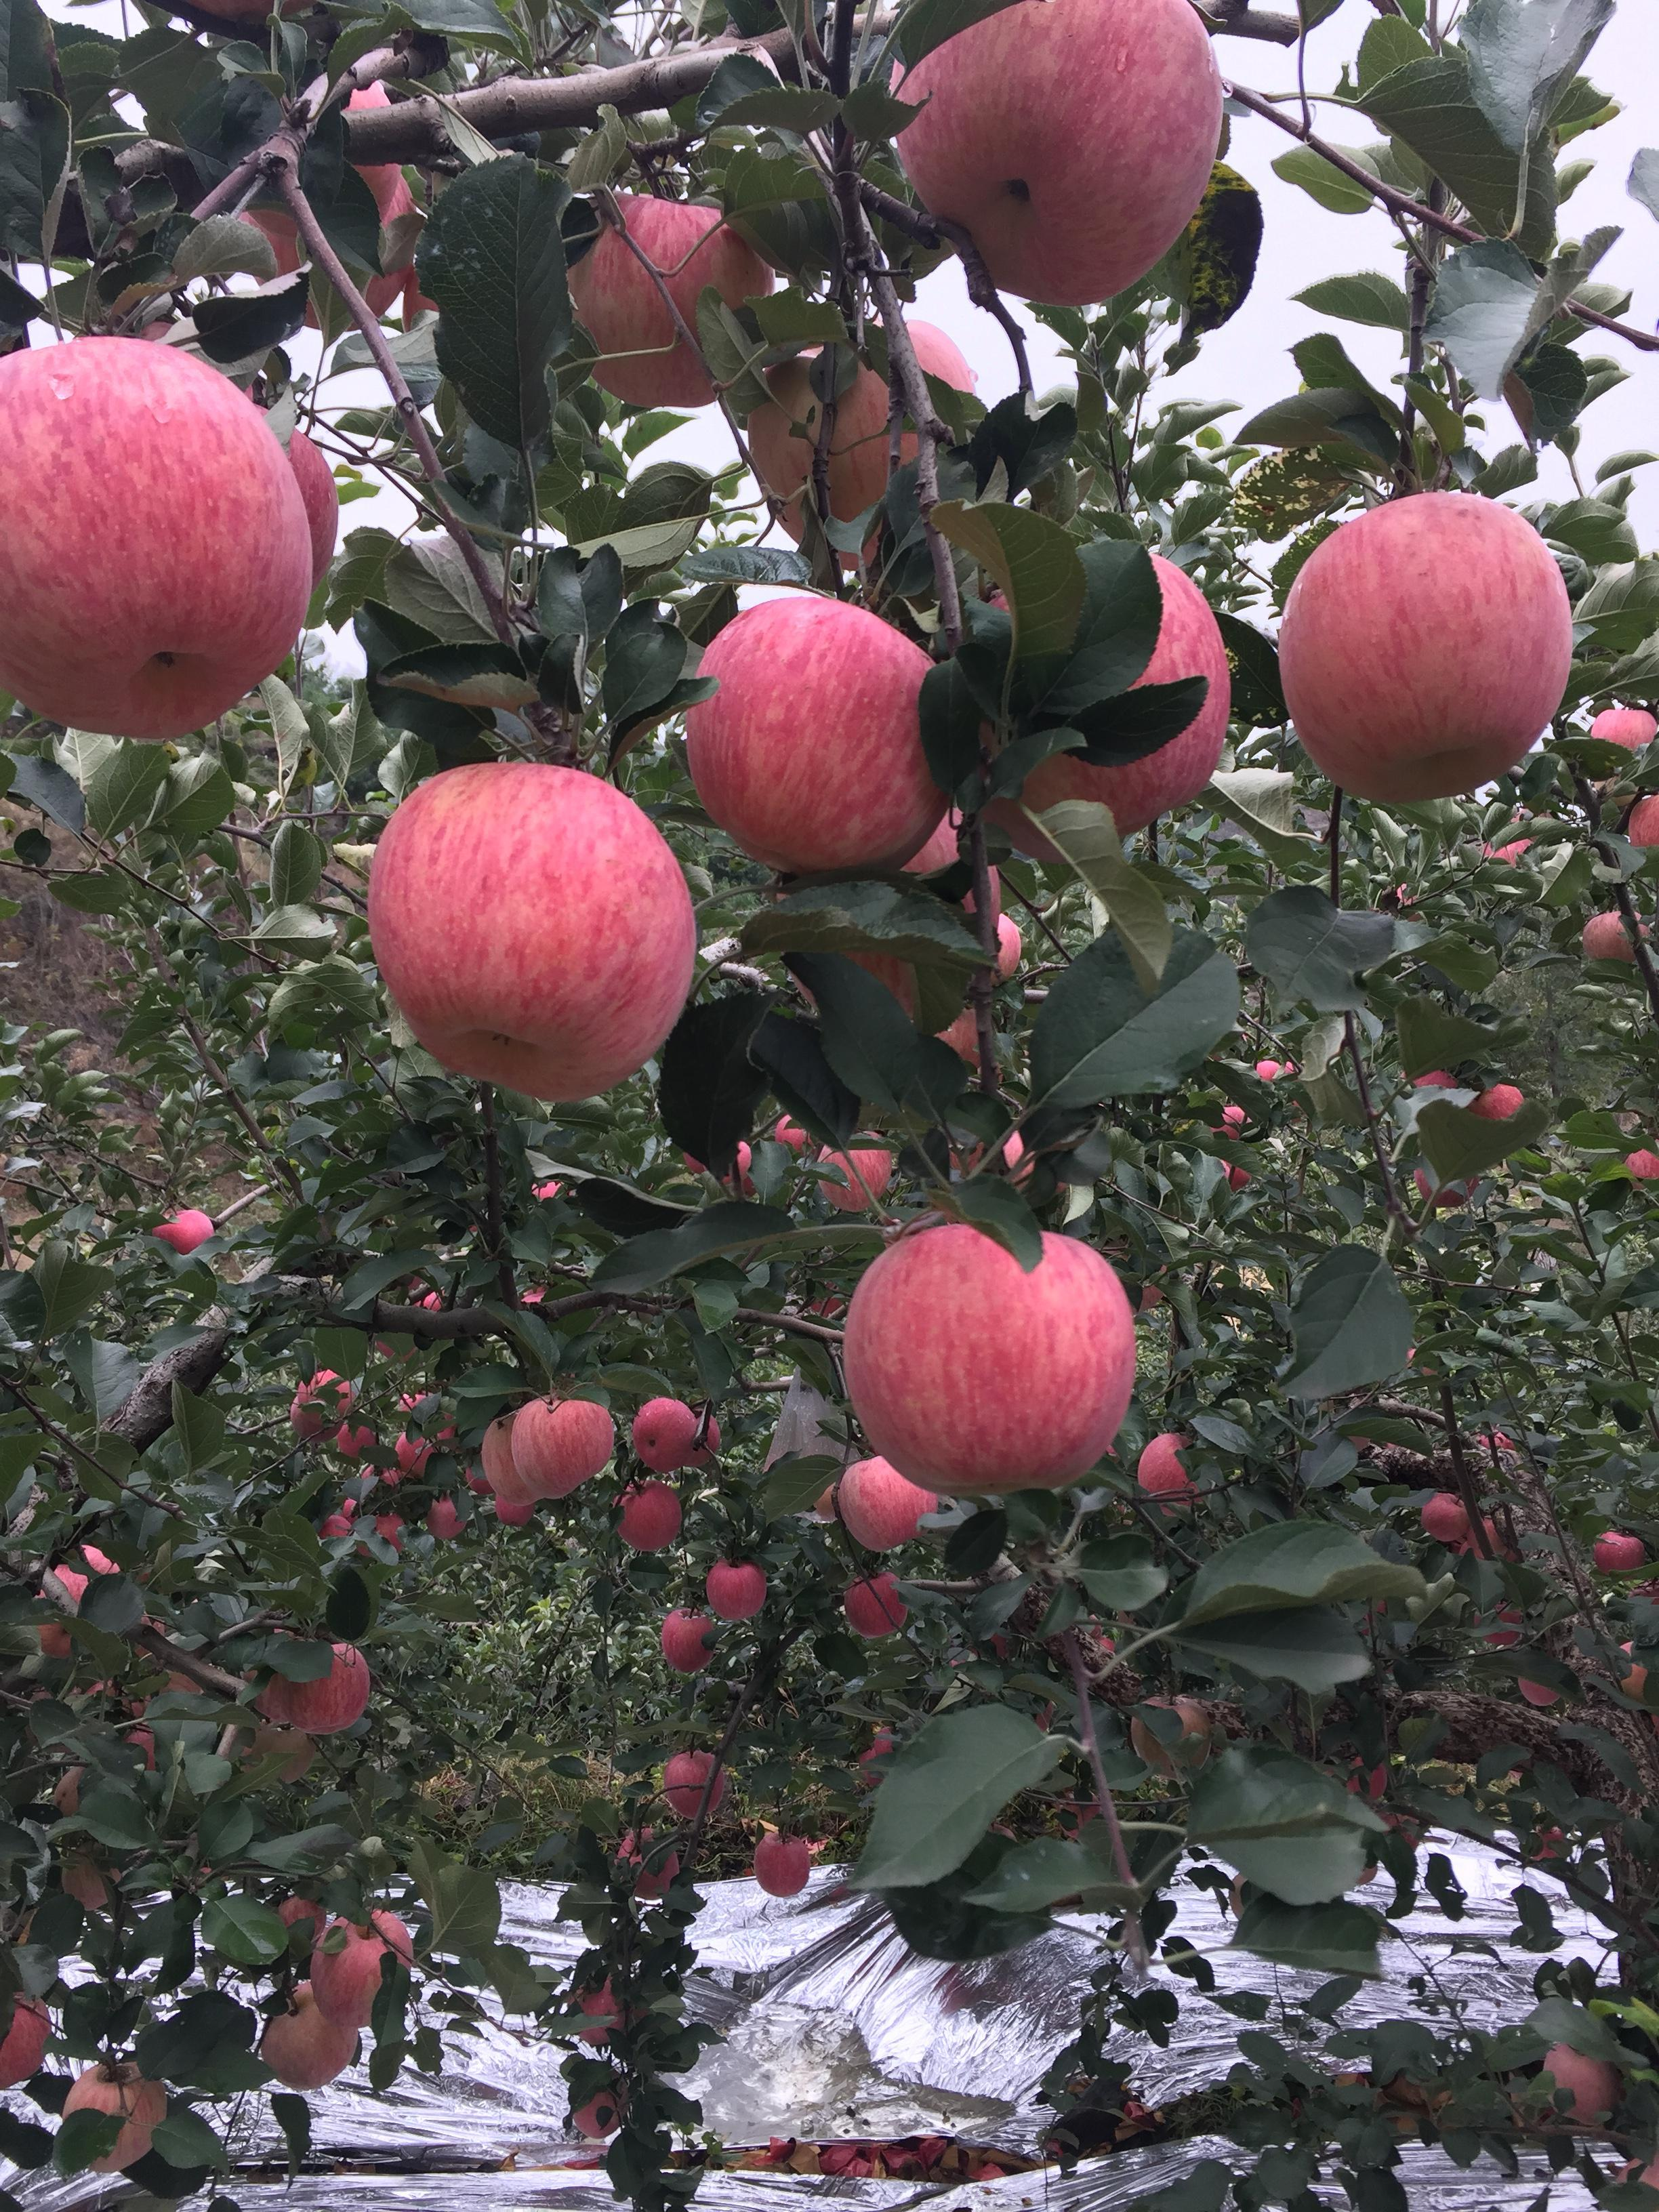apple: (598, 57, 1046, 568), (0, 333, 321, 738), (368, 751, 690, 1106), (878, 3, 1227, 327), (1279, 486, 1565, 813), (842, 1212, 1133, 1510), (680, 590, 960, 888), (570, 193, 798, 397), (483, 1393, 613, 1512), (246, 1637, 369, 1737), (836, 1453, 943, 1552), (627, 1397, 704, 1474), (153, 1205, 213, 1256)
